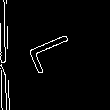L_NE: (26, 31, 84, 79)
